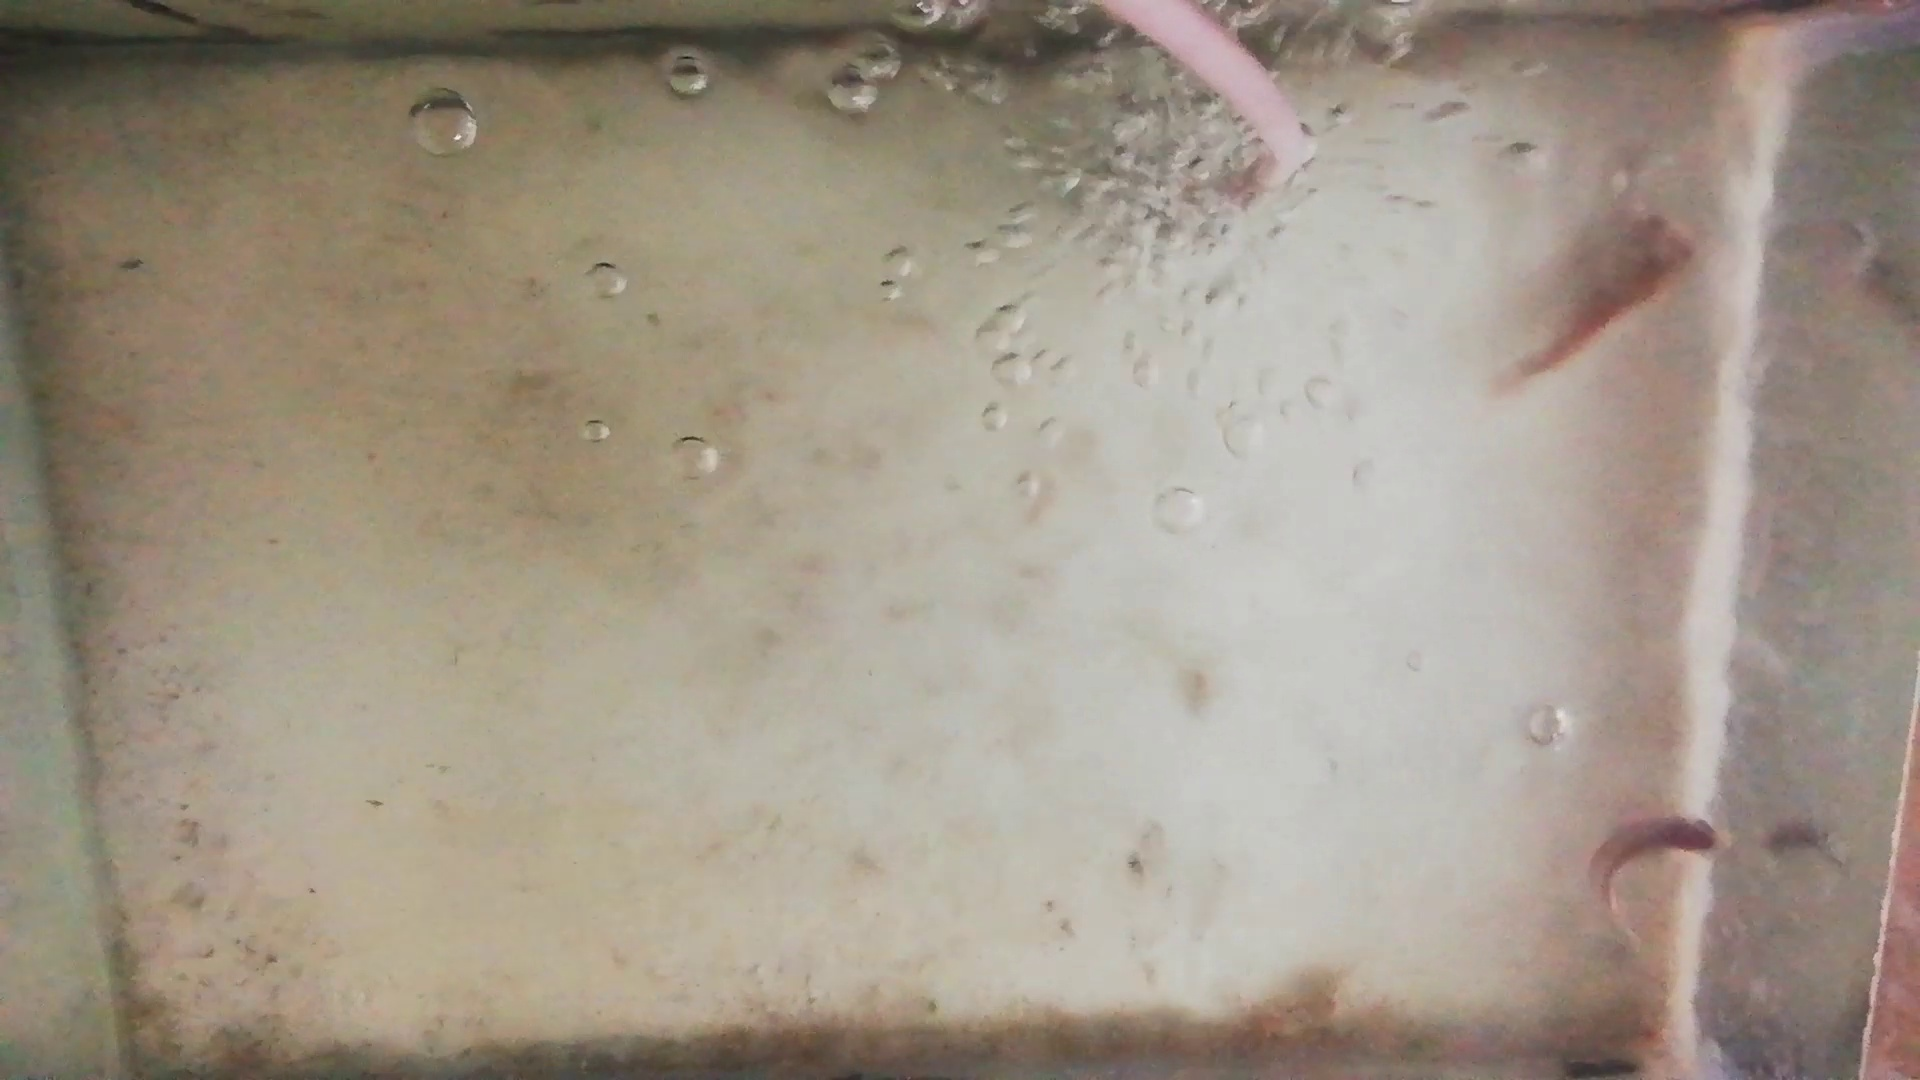fish: (1513, 218, 1702, 386), (1589, 819, 1733, 942)
